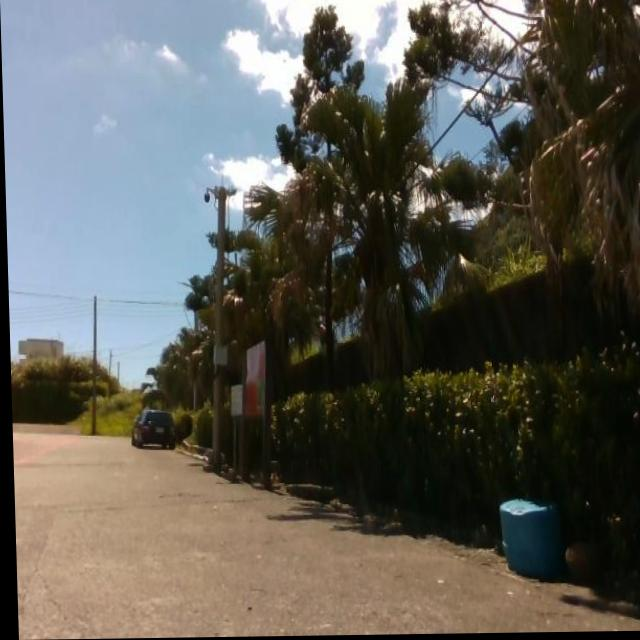pollute: (490, 498, 563, 586)
